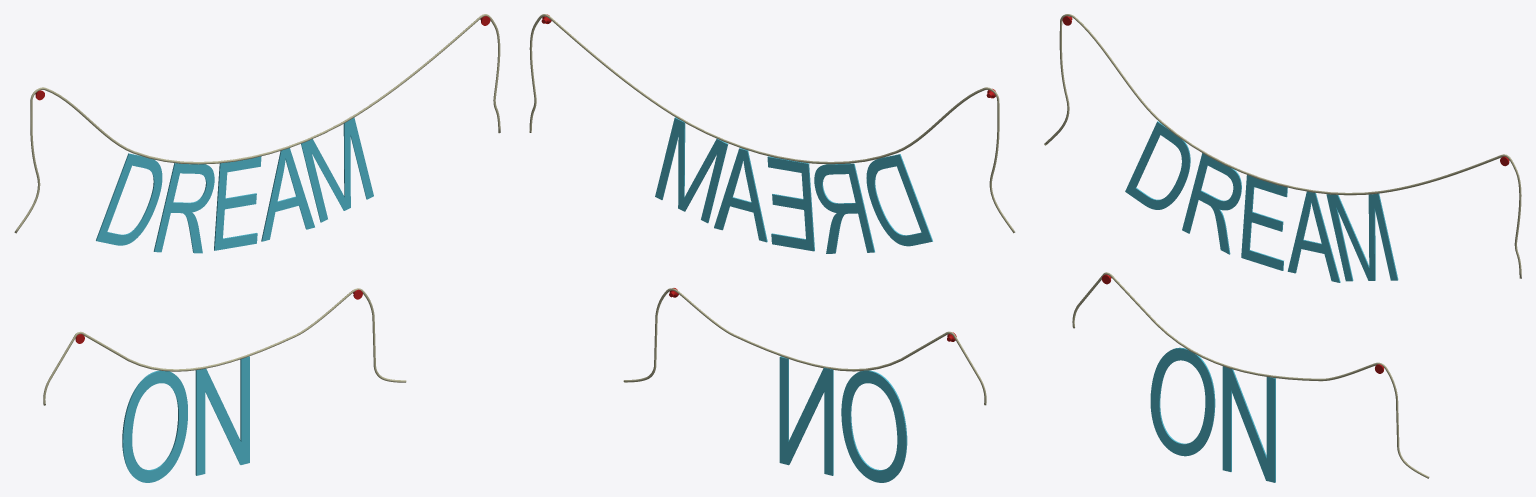
3 renders of one model, left to right at view 1: azimuth 30°, elevation 25°; view 2: azimuth 150°, elevation 25°; view 3: azimuth 330°, elevation 25°, orthographic.
Visible parts, largest first — view 1: text; view 2: text; view 3: text.
Boxes of the visible parts, x1=… form: text: x1=14, y1=14, x2=500, y2=482; text: x1=529, y1=14, x2=1015, y2=482; text: x1=1044, y1=14, x2=1521, y2=482.
Bounding box in the file's own units: 105 × 87.87 × 1.39.
Materials: 1 (1 with a texture image).
